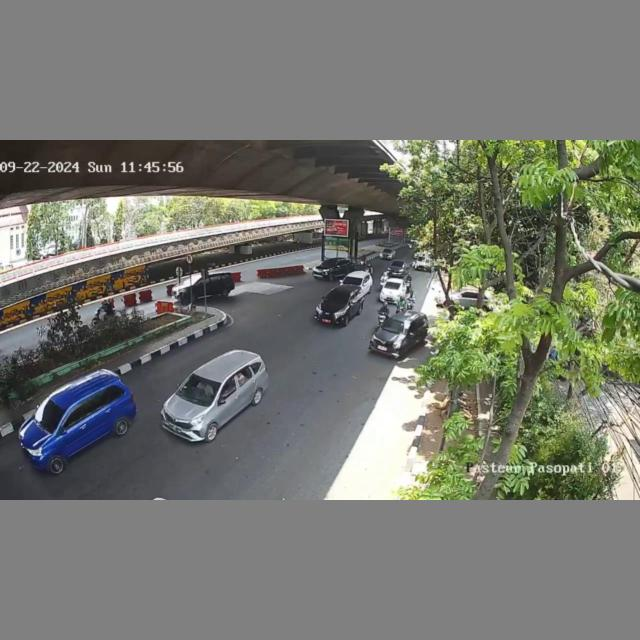windshield: (173, 373, 222, 404), (36, 398, 66, 430), (326, 291, 351, 307), (383, 319, 408, 333), (383, 280, 402, 291)
